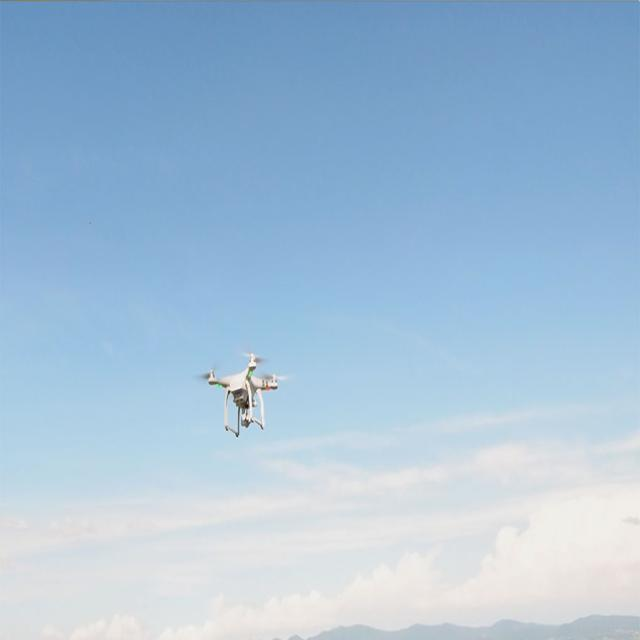drone: (203, 348, 283, 433)
